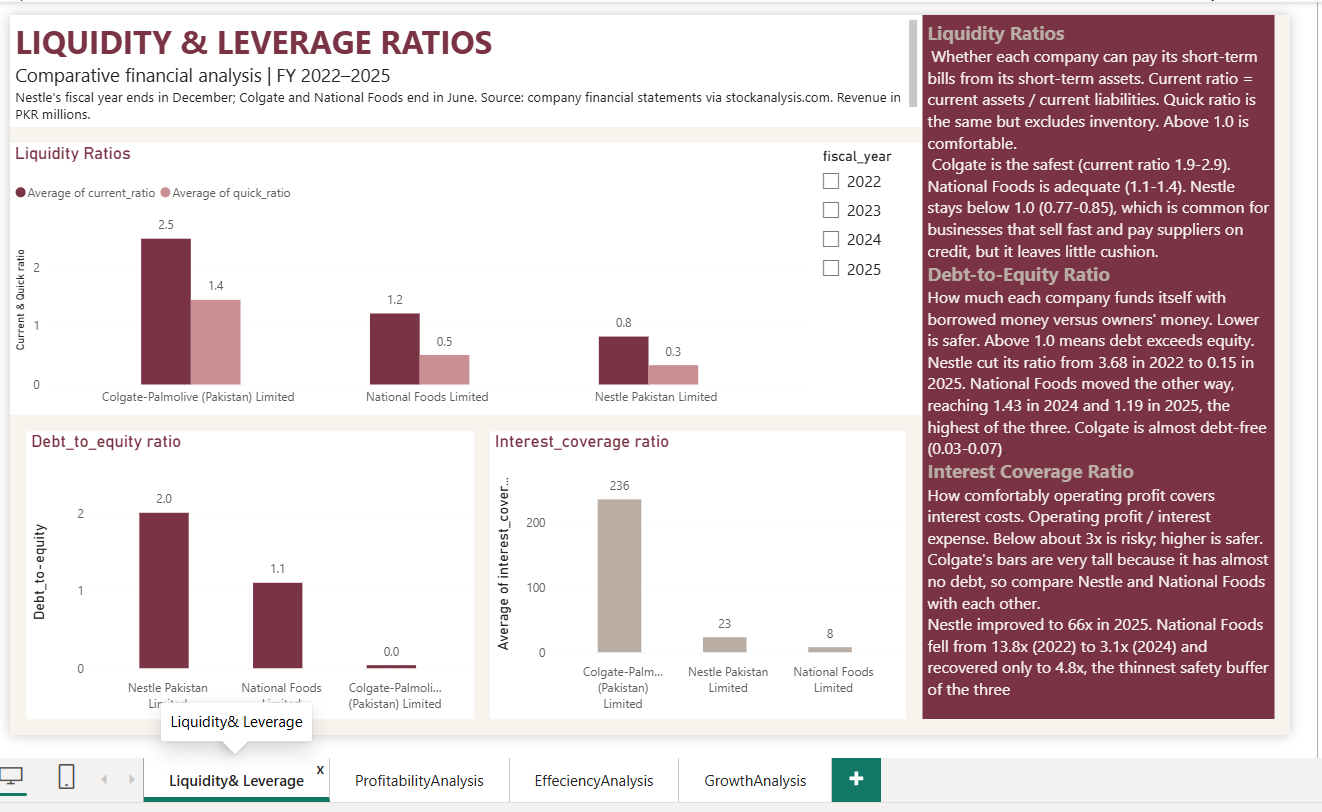

The page's visual inventory and layout, read from the dashboard file:
{"tool":"powerbi","page":{"name":"Liquidity& Leverage","canvas":[1280,720],"ordinal":0},"visuals":[{"type":"clusteredColumnChart","title":"Liquidity Ratios","fields":{"Category":["public liquidity_ratio.company_name"],"Y":["Avg(public liquidity_ratio.current_ratio)","Avg(public liquidity_ratio.quick_ratio)"]},"box":[0,128,800,272],"z":0},{"type":"clusteredColumnChart","title":" Debt_to_equity ratio","fields":{"Category":["public leverage_ratios.company_name"],"Y":["Avg(public leverage_ratios.debt_to_equity)"]},"box":[16,416,448,288],"z":1000},{"type":"clusteredColumnChart","title":"Interest_coverage ratio","fields":{"Category":["public leverage_ratios.company_name"],"Y":["Avg(public leverage_ratios.interest_coverage)"]},"box":[480,416,416,288],"z":2000},{"type":"textbox","box":[0,0,912,112],"z":3000},{"type":"slicer","fields":{"Values":["Table.fiscal_year"]},"box":[800,128,112,272],"z":4000},{"type":"textbox","box":[912,0,352,704],"z":4001}]}

Visuals, with their boxes on the page's 1280x720 design canvas (x1, y1, x2, y2). These are canvas units, not pixel positions in the 1322x812 screenshot, which may show the page scaled, cropped or inside an application window:
"Liquidity Ratios" clusteredColumnChart: x1=0 y1=128 x2=800 y2=400
" Debt_to_equity ratio" clusteredColumnChart: x1=16 y1=416 x2=464 y2=704
"Interest_coverage ratio" clusteredColumnChart: x1=480 y1=416 x2=896 y2=704
textbox: x1=0 y1=0 x2=912 y2=112
slicer - Table.fiscal_year: x1=800 y1=128 x2=912 y2=400
textbox: x1=912 y1=0 x2=1264 y2=704
